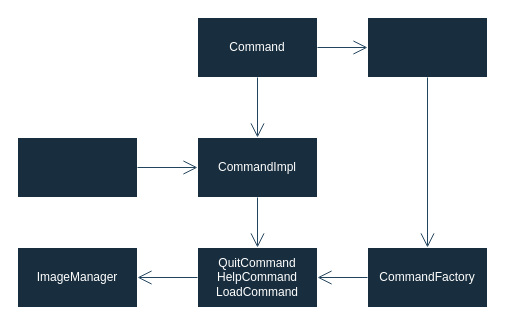
Some shapes in this 505 by 325 pixel diagram are drawn without their labels. Here are the shapes that lost their labels. From the top down, the centre of each, then its label:
At (427,47): "CommandTrie".
At (77,167): "main".
